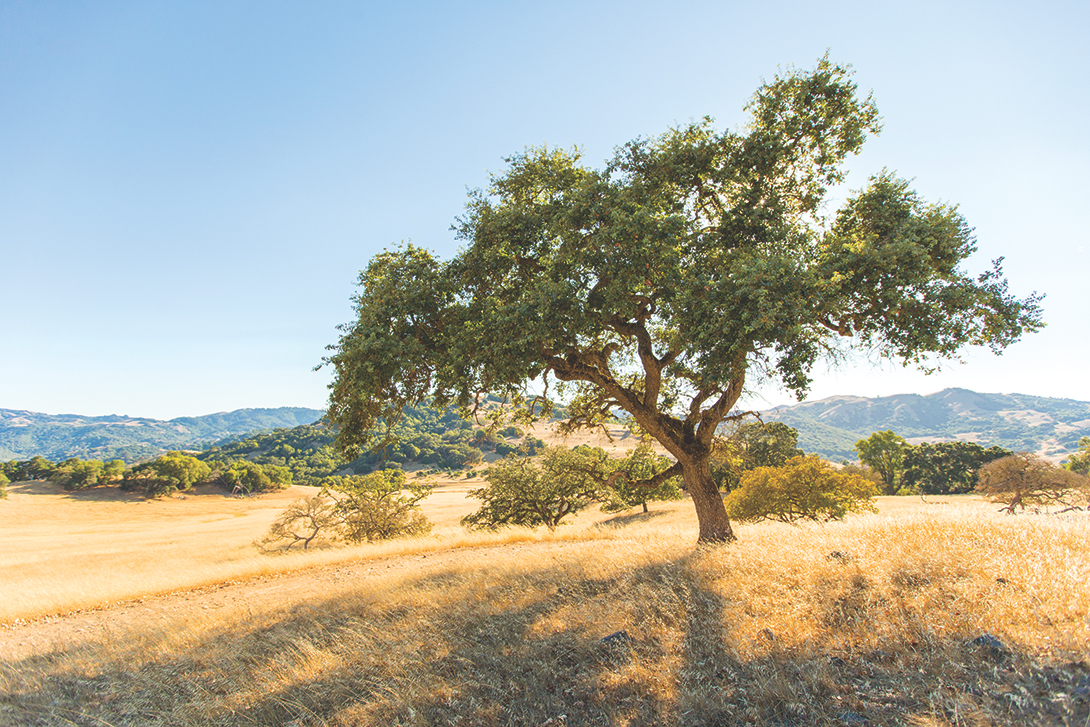tree: (312, 46, 1048, 546)
